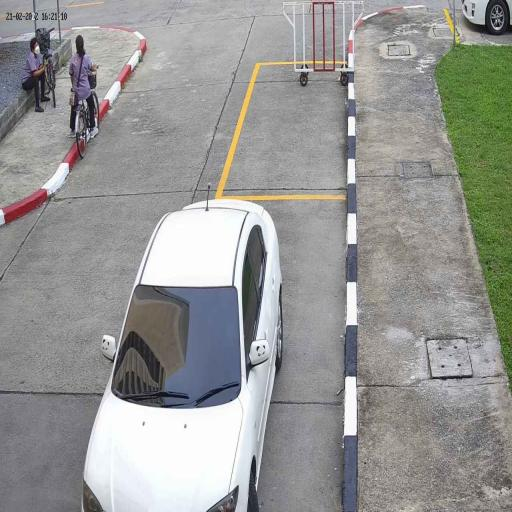car: (82, 193, 286, 512)
